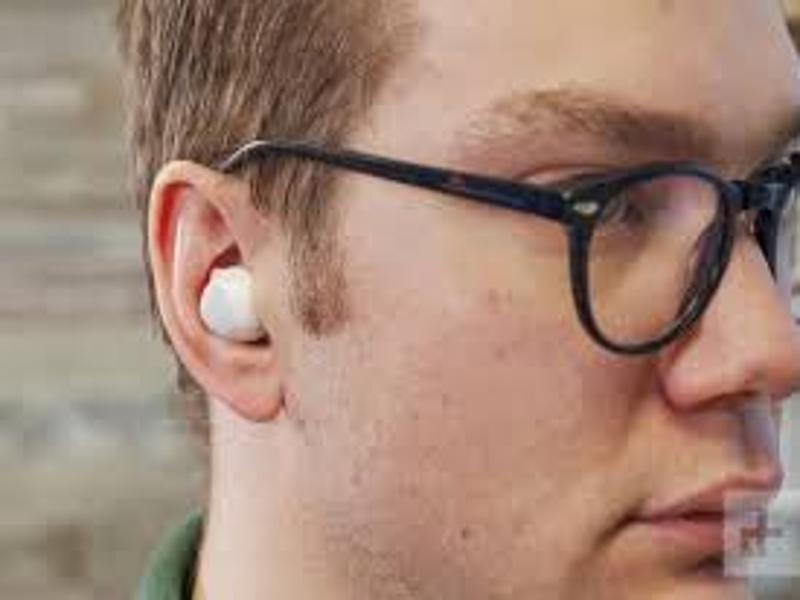headphone: (198, 263, 263, 345)
